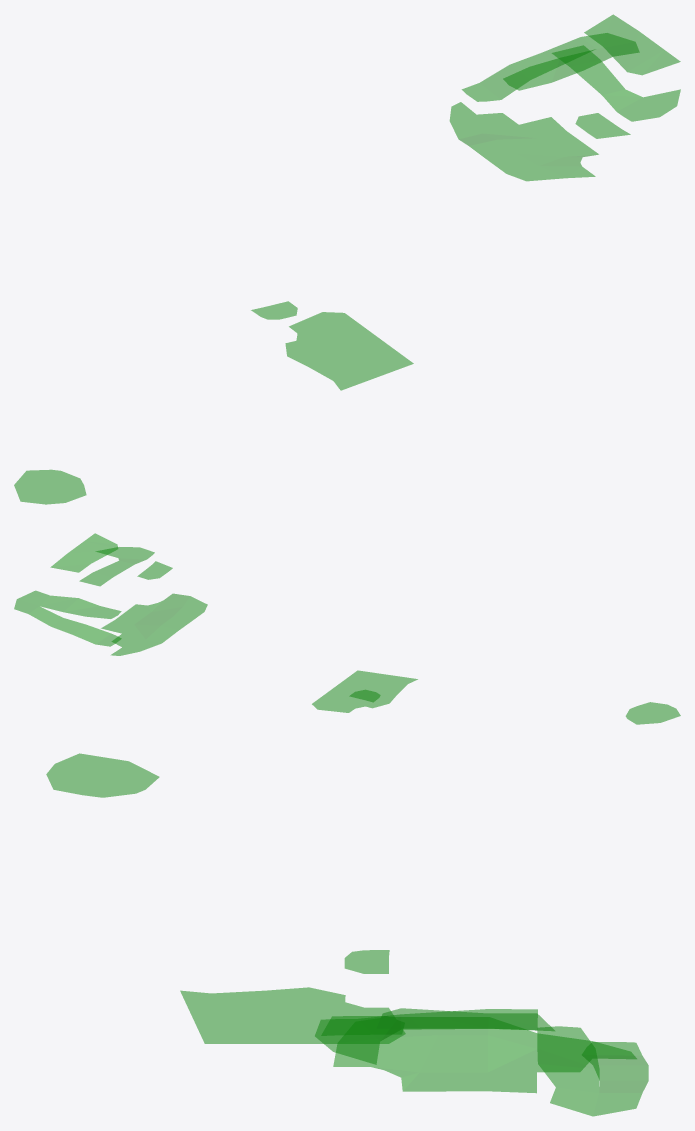
Rendered from siro.obj.
3 renders of one model, top to bottom at view 1: azimuth 30°, elevation 25°; view 2: azimuth 150°, elevation 25°; view 3: azimuth 270°, elevation 25°, orthographic. The views are drawn at different scales.
Bounding box in the file's own units: 200 × 41 × 97.38.
